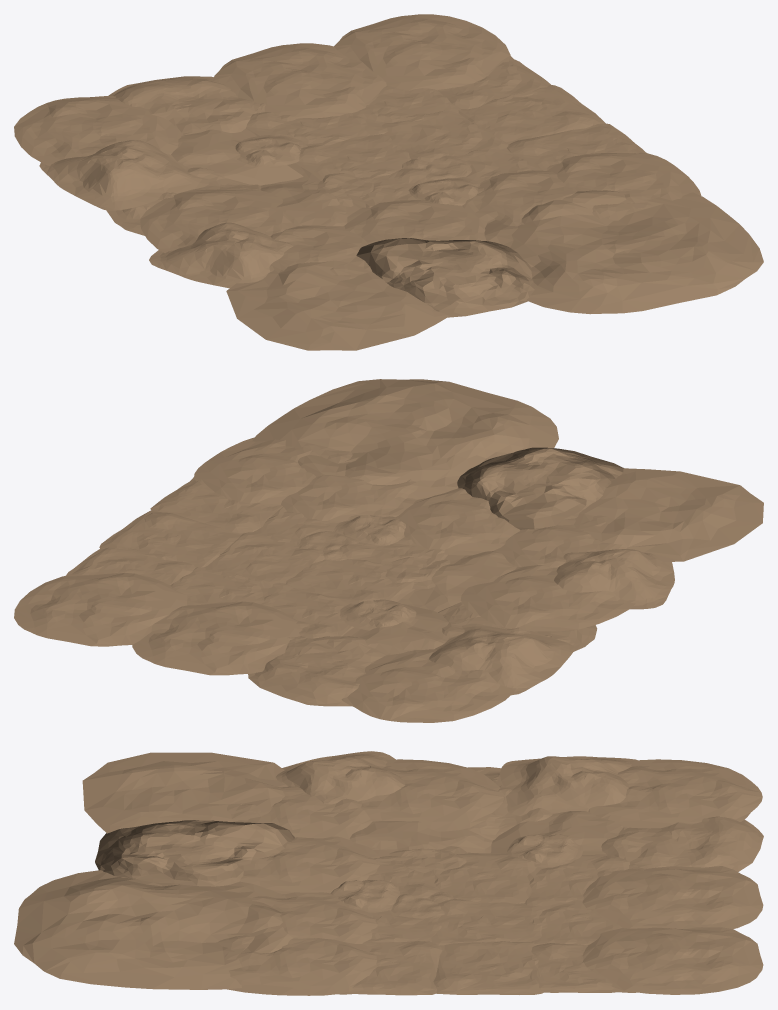
The model's file is ground.fbx.
3 renders of one model, top to bottom at view 1: azimuth 30°, elevation 25°; view 2: azimuth 150°, elevation 25°; view 3: azimuth 270°, elevation 25°, orthographic. The views are drawn at different scales.
Visible parts, largest first — view 1: SM_Env_Sand_Ground_02, SM_Generic_Ground_01, SM_Env_Sand_Ground_05, SM_Generic_Ground_009, SM_Generic_Ground_008, SM_Generic_Ground_007, SM_Env_Mound_Large_03, SM_Generic_Ground_006, SM_Generic_Ground_004, SM_Env_Mound_Large_006, SM_Env_Sand_Ground_04, SM_Env_Sand_Ground_013 (+18 smaller); view 2: SM_Env_Sand_Ground_02, SM_Generic_Ground_01, SM_Generic_Ground_009, SM_Generic_Ground_008, SM_Env_Sand_Ground_05, SM_Generic_Ground_007, SM_Generic_Ground_006, SM_Env_Sand_Ground_04, SM_Generic_Ground_004, SM_Env_Mound_Large_03, SM_Generic_Ground_02, SM_Env_Mound_Large_006 (+18 smaller); view 3: SM_Env_Sand_Ground_02, SM_Generic_Ground_01, SM_Generic_Ground_009, SM_Env_Sand_Ground_05, SM_Generic_Ground_008, SM_Generic_Ground_007, SM_Generic_Ground_004, SM_Generic_Ground_006, SM_Env_Mound_Large_03, SM_Env_Sand_Ground_04, SM_Generic_Ground_02, SM_Env_Sand_Ground_013 (+18 smaller).
Part boxes in pixels (left/top/right/bottom): SM_Env_Sand_Ground_02: left=484, top=190, right=763, bottom=314; SM_Generic_Ground_01: left=226, top=260, right=449, bottom=350; SM_Env_Sand_Ground_05: left=356, top=238, right=534, bottom=317; SM_Generic_Ground_009: left=334, top=14, right=510, bottom=90; SM_Generic_Ground_008: left=213, top=43, right=386, bottom=118; SM_Generic_Ground_007: left=14, top=96, right=183, bottom=165; SM_Env_Mound_Large_03: left=39, top=140, right=209, bottom=210; SM_Generic_Ground_006: left=140, top=188, right=297, bottom=253; SM_Generic_Ground_004: left=546, top=152, right=701, bottom=220; SM_Env_Mound_Large_006: left=149, top=222, right=293, bottom=288; SM_Env_Sand_Ground_04: left=108, top=76, right=261, bottom=134; SM_Env_Sand_Ground_013: left=458, top=85, right=605, bottom=143; SM_Env_Sand_Ground_02: left=252, top=379, right=558, bottom=499; SM_Generic_Ground_01: left=574, top=468, right=763, bottom=561; SM_Generic_Ground_009: left=14, top=573, right=187, bottom=646; SM_Generic_Ground_008: left=132, top=601, right=302, bottom=675; SM_Env_Sand_Ground_05: left=457, top=447, right=623, bottom=529; SM_Generic_Ground_007: left=341, top=649, right=515, bottom=722; SM_Generic_Ground_006: left=460, top=565, right=635, bottom=631; SM_Env_Sand_Ground_04: left=248, top=636, right=386, bottom=706; SM_Generic_Ground_004: left=194, top=437, right=352, bottom=506; SM_Env_Mound_Large_03: left=429, top=623, right=575, bottom=695; SM_Generic_Ground_02: left=395, top=488, right=519, bottom=555; SM_Env_Mound_Large_006: left=554, top=549, right=674, bottom=609; SM_Env_Sand_Ground_02: left=14, top=870, right=293, bottom=989; SM_Generic_Ground_01: left=82, top=752, right=287, bottom=833; SM_Generic_Ground_009: left=582, top=927, right=763, bottom=994; SM_Env_Sand_Ground_05: left=95, top=820, right=294, bottom=886; SM_Generic_Ground_008: left=582, top=866, right=763, bottom=928; SM_Generic_Ground_007: left=588, top=759, right=762, bottom=828; SM_Generic_Ground_004: left=217, top=935, right=377, bottom=995; SM_Generic_Ground_006: left=359, top=759, right=504, bottom=831; SM_Env_Mound_Large_03: left=496, top=756, right=637, bottom=815; SM_Env_Sand_Ground_04: left=601, top=816, right=763, bottom=871; SM_Generic_Ground_02: left=240, top=836, right=379, bottom=893; SM_Env_Sand_Ground_013: left=433, top=941, right=543, bottom=994.
Size of the model in its own units: 226146 by 11564 by 291441.
Materials: 1 (1 with a texture image).
